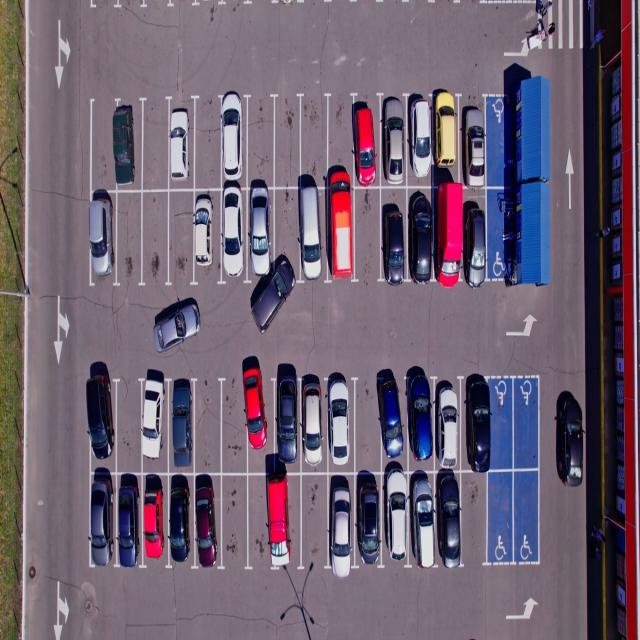space-empty: (298, 472, 331, 572), (192, 97, 225, 192), (218, 376, 249, 475), (115, 377, 146, 475), (193, 378, 224, 475), (140, 190, 171, 286), (169, 188, 199, 286), (115, 190, 145, 286), (352, 376, 382, 472), (141, 98, 171, 192), (271, 188, 303, 276), (351, 187, 381, 279), (219, 474, 248, 569), (513, 470, 543, 561), (247, 96, 276, 188), (328, 97, 357, 189), (462, 470, 490, 564), (486, 470, 514, 562), (488, 377, 514, 474), (274, 96, 302, 186), (514, 380, 542, 470), (248, 471, 273, 570), (91, 94, 116, 191), (299, 98, 326, 187)
space-occupied: (268, 470, 303, 572), (430, 185, 463, 283), (246, 371, 278, 472), (113, 95, 146, 190), (326, 374, 358, 471), (168, 96, 200, 192), (140, 378, 171, 476), (85, 374, 116, 471), (192, 476, 223, 572), (273, 375, 303, 473), (350, 471, 381, 565), (378, 473, 410, 564), (296, 376, 326, 473), (86, 191, 116, 286), (326, 474, 356, 569), (217, 187, 247, 281), (140, 472, 170, 566), (191, 188, 221, 282), (431, 378, 461, 471), (170, 378, 199, 474), (378, 376, 407, 472), (246, 187, 277, 276), (406, 376, 435, 471), (407, 185, 436, 280), (326, 187, 356, 278), (297, 186, 327, 277), (378, 186, 407, 280), (169, 471, 197, 568), (115, 472, 144, 563), (407, 93, 436, 184), (219, 96, 247, 190), (432, 470, 460, 564), (353, 96, 382, 186), (432, 95, 461, 185), (465, 378, 492, 472), (379, 97, 407, 187), (409, 470, 436, 562), (90, 474, 116, 562), (465, 97, 488, 186)
